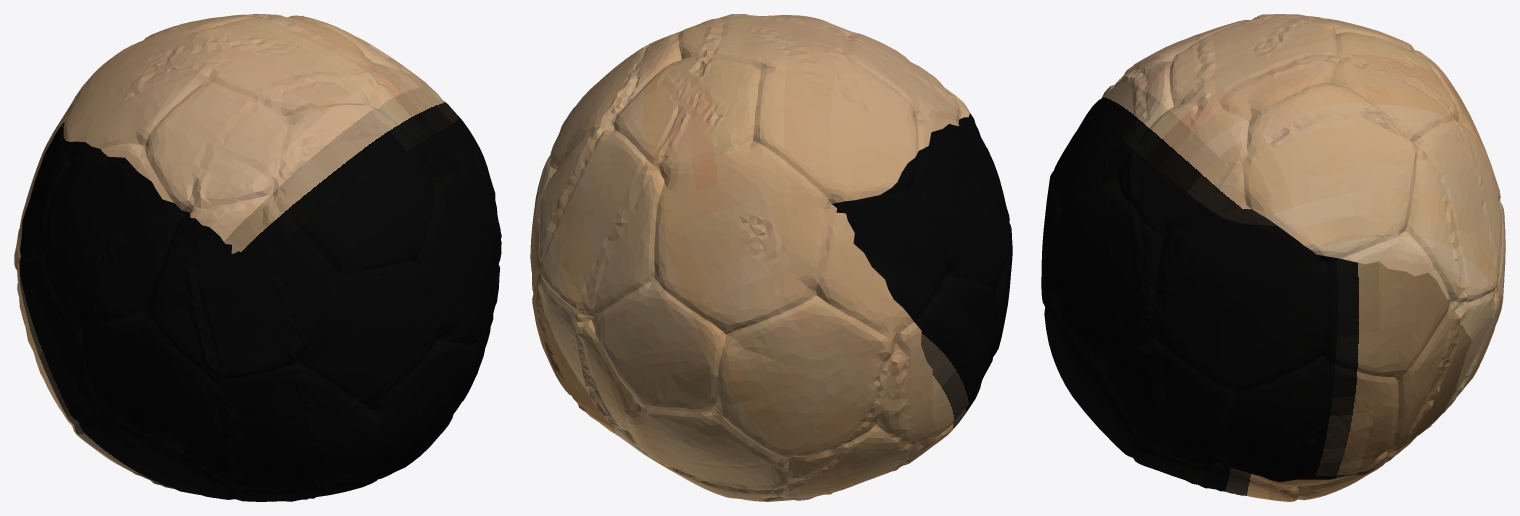
3 views of the same model, side by side, from view 1: azimuth 30°, elevation 25°; view 2: azimuth 150°, elevation 25°; view 3: azimuth 270°, elevation 25° (orthographic).
Bounding box in the file's own units: 0.1262 × 0.1256 × 0.1222.
